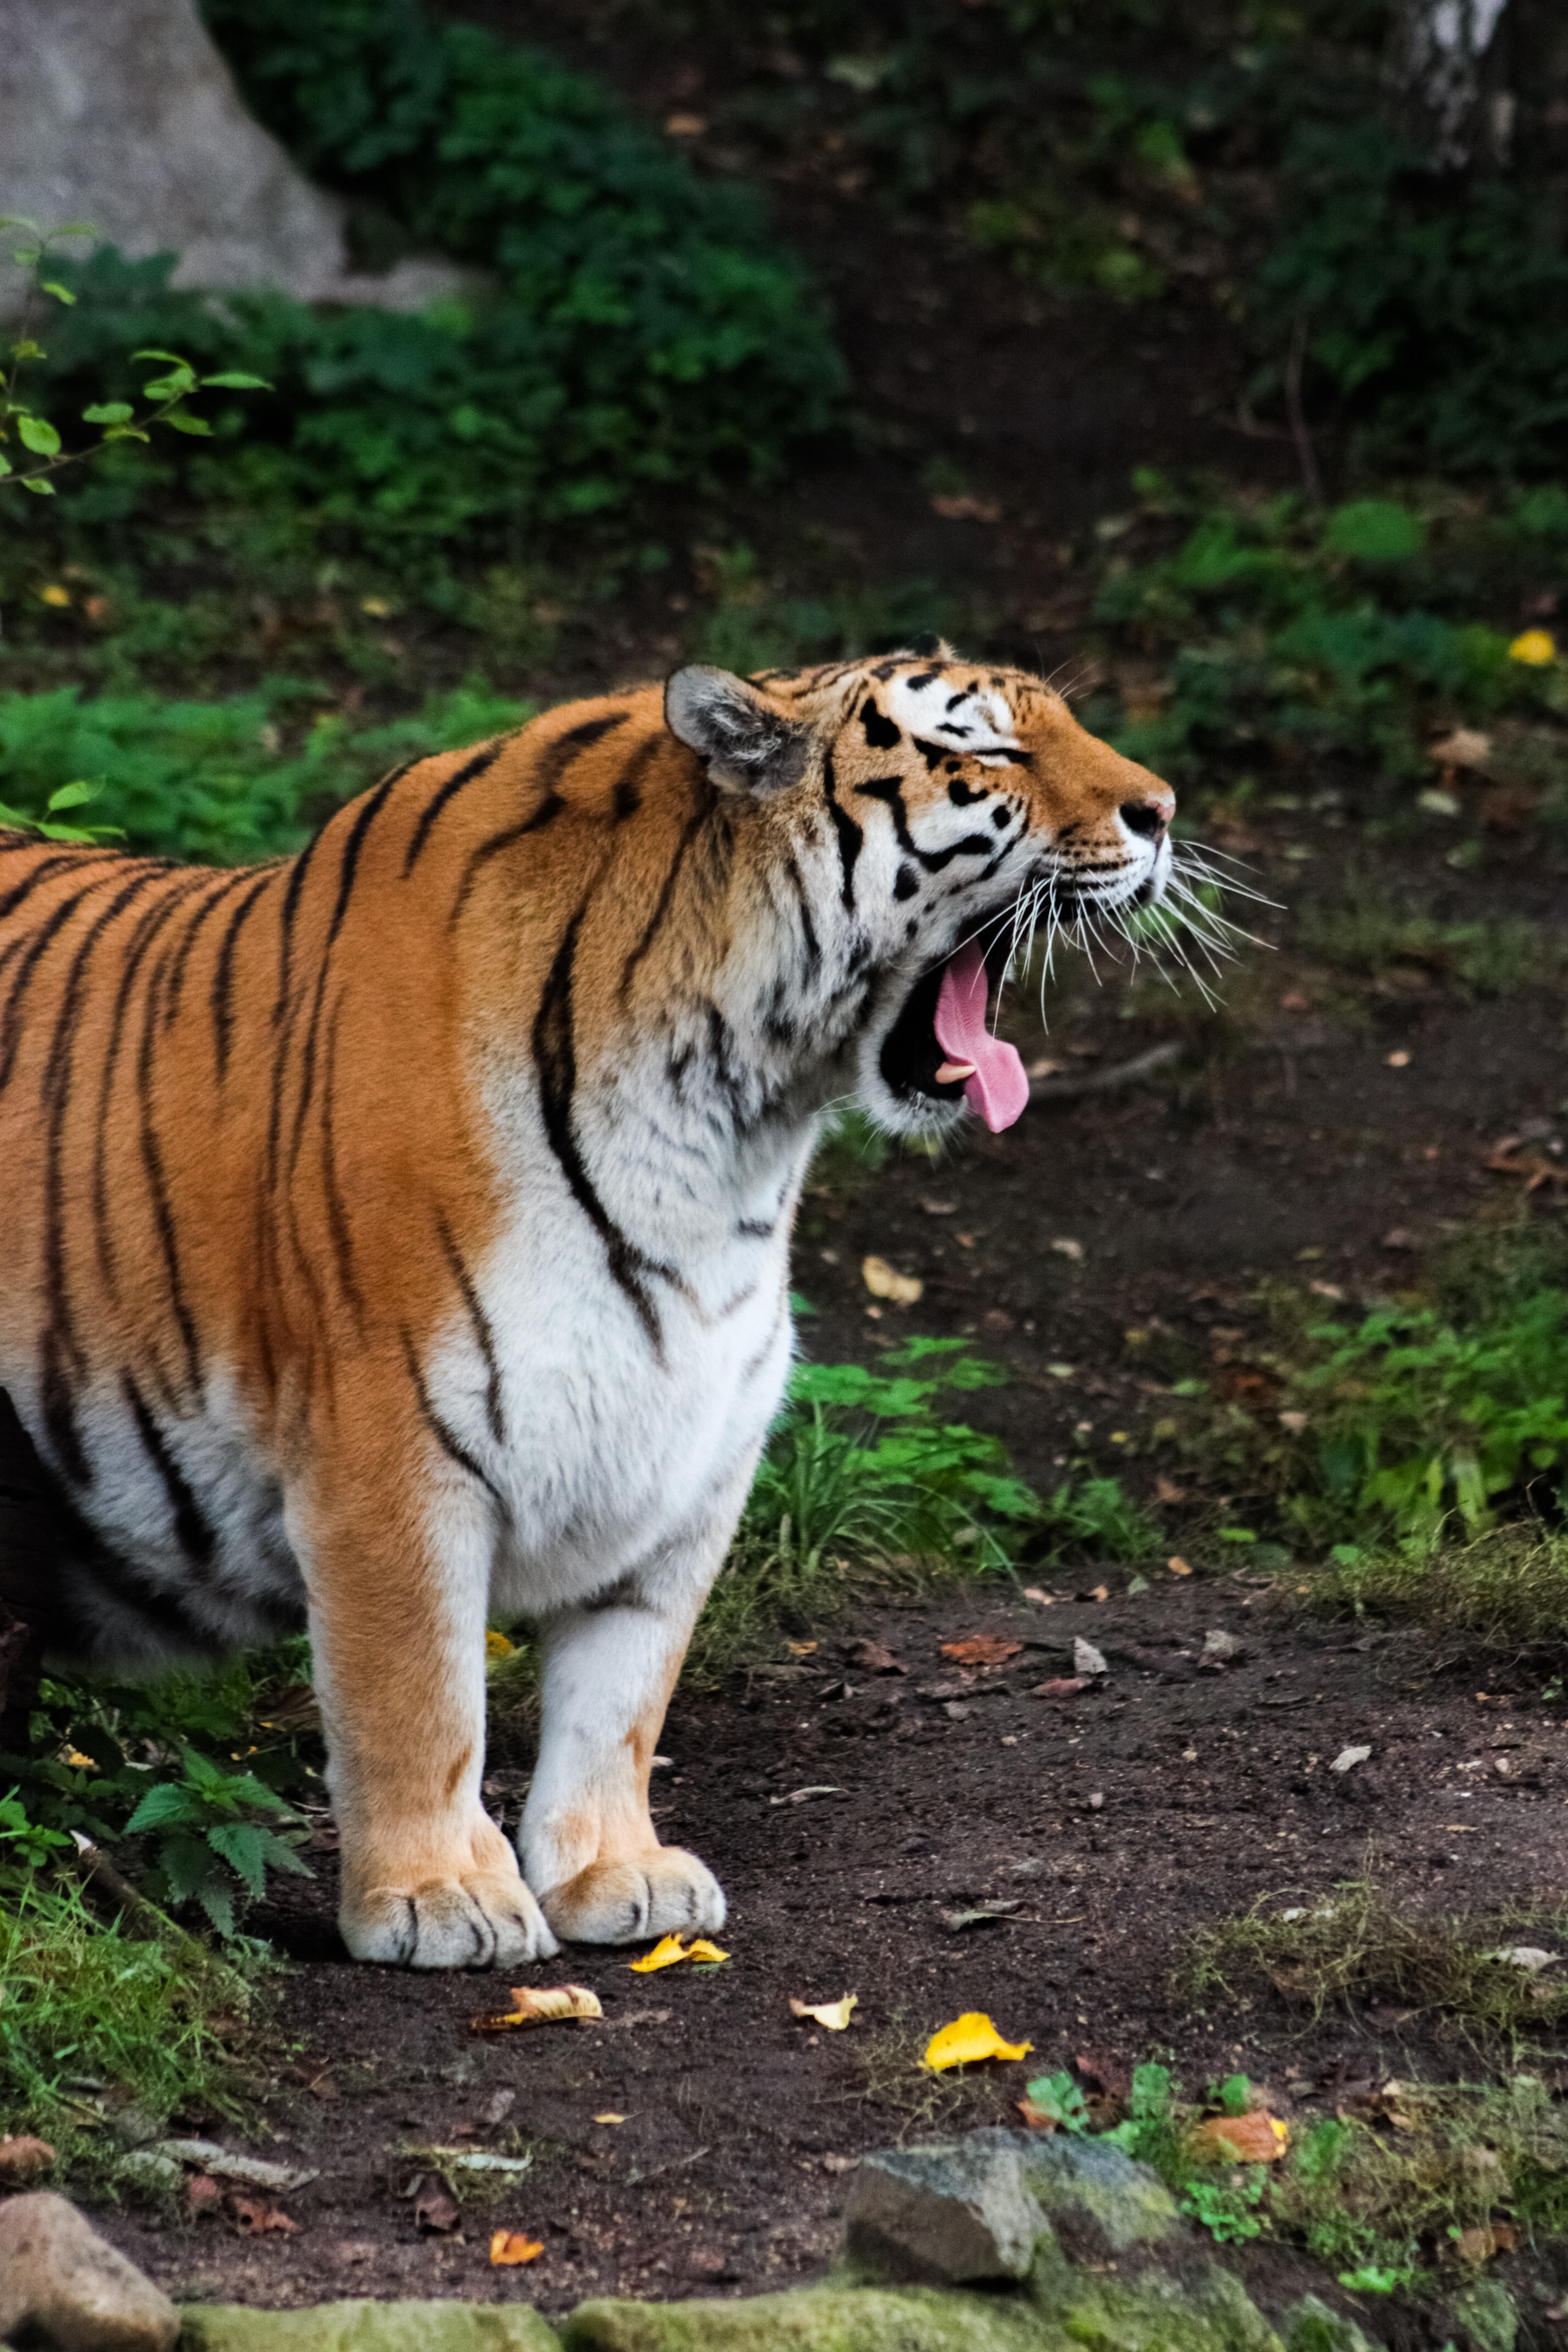tiger: (54, 527, 1225, 1986)
